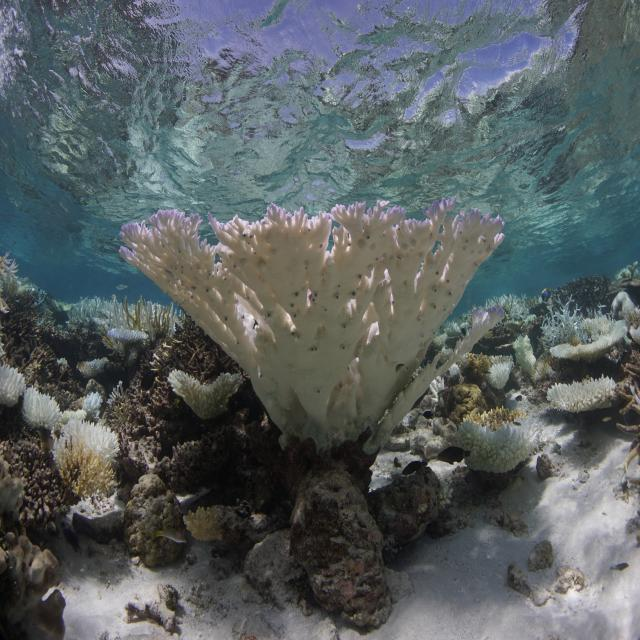Dead Coral: (4, 288, 58, 369), (138, 571, 198, 635), (614, 346, 640, 452)
